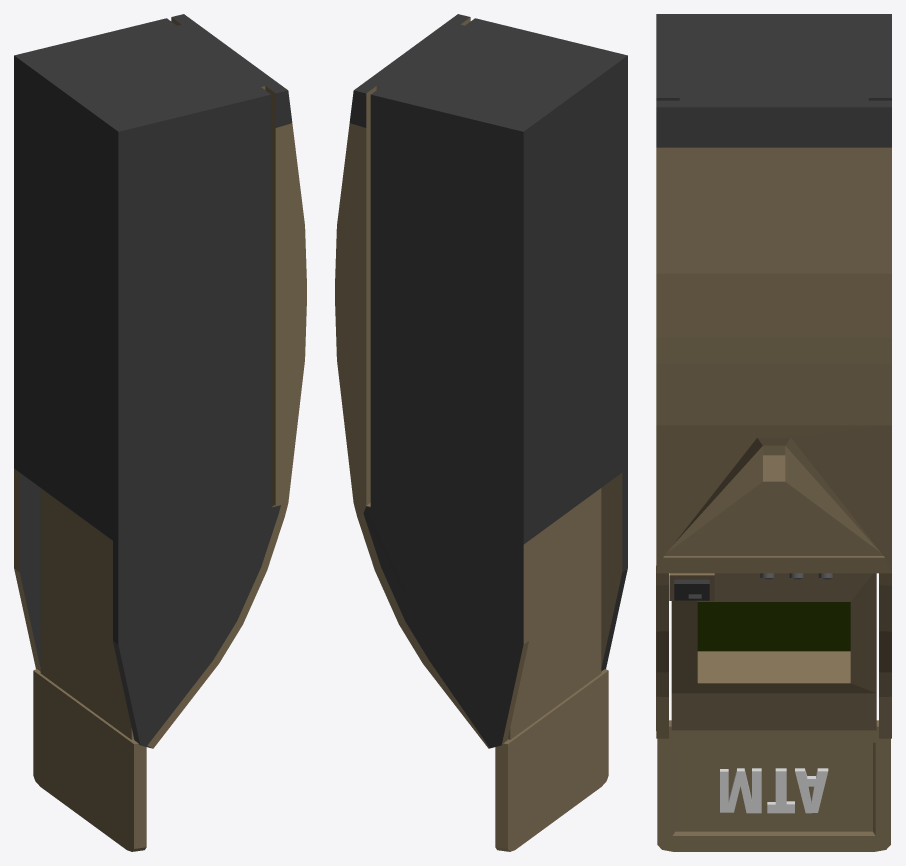
Rendered from atm_machine.fbx.
3 renders of one model, left to right at view 1: azimuth 30°, elevation 25°; view 2: azimuth 150°, elevation 25°; view 3: azimuth 270°, elevation 25°, orthographic. The views are drawn at different scales.
Parts seen in each view (by area): view 1: Cube, Cube.001, Cube.003; view 2: Cube, Cube.001, Cube.003; view 3: Cube, Cube.001, Cube.003, Vert.
Part boxes in pixels (x1,y1,x2,y2): Cube: (14,14,306,748); Cube.001: (40,488,133,739); Cube.003: (33,669,146,851); Cube: (335,14,627,748); Cube.001: (508,488,601,739); Cube.003: (495,669,608,851); Cube: (656,14,891,738); Cube.001: (671,573,876,730); Cube.003: (657,720,890,851); Vert: (720,768,828,813).
Bounding box in the file's own units: 247 × 913 × 237.
